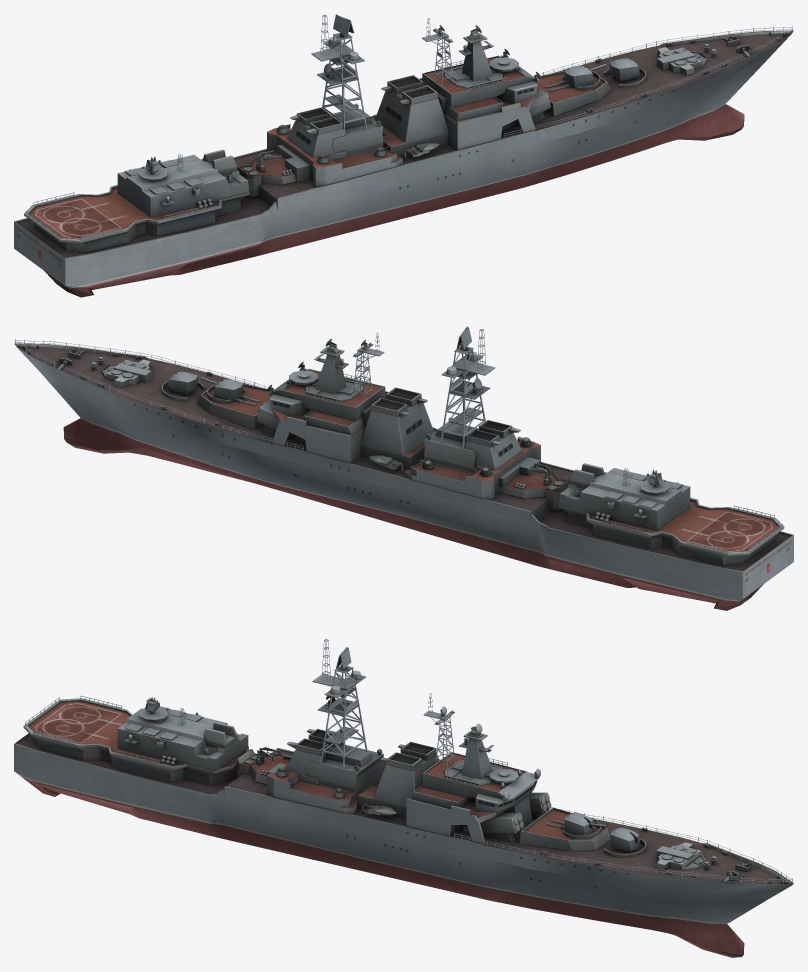
The model's file is ru-udaloy.glb.
3 views of the same model, one above another, from view 1: azimuth 30°, elevation 25°; view 2: azimuth 150°, elevation 25°; view 3: azimuth 330°, elevation 25° (orthographic).
Visible parts, largest first — view 1: root; view 2: root; view 3: root.
Boxes of the visible parts, x1=… form: root: x1=14, y1=14, x2=793, y2=297; root: x1=14, y1=326, x2=793, y2=610; root: x1=14, y1=639, x2=793, y2=957.
Bounding box in the file's own units: 163 × 44.95 × 20.16.
1 material, 1 textured.
